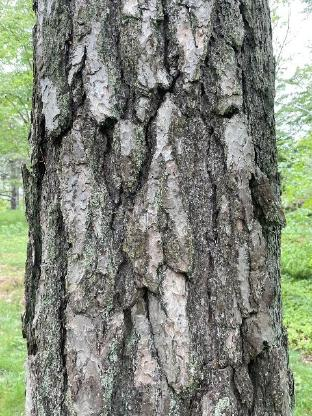tree: (21, 0, 299, 416)
